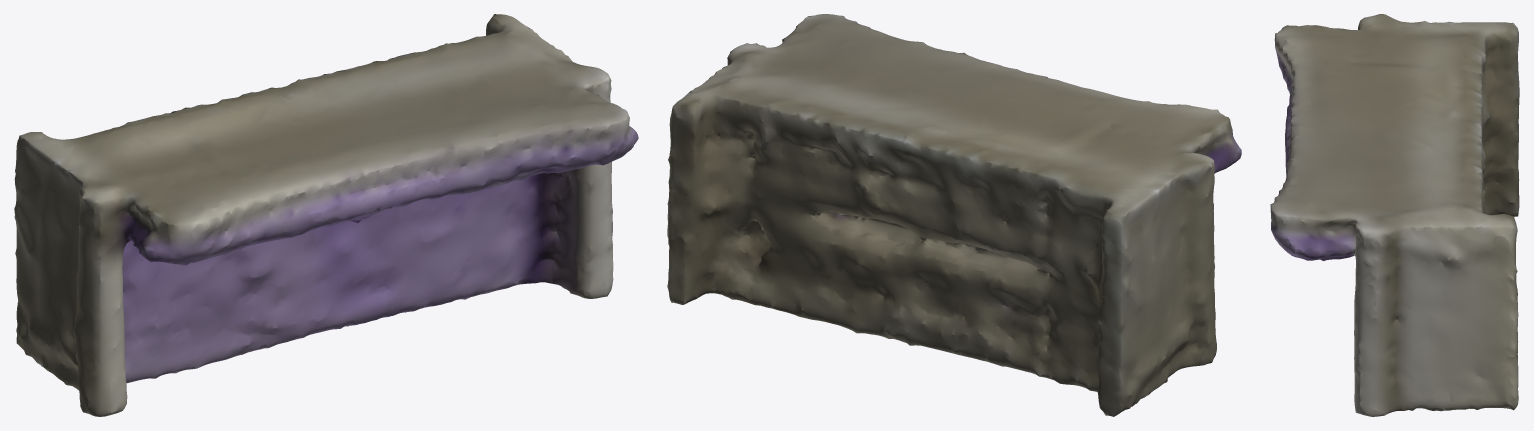
Rendered from sofa.glb.
3 views of the same model, side by side, from view 1: azimuth 30°, elevation 25°; view 2: azimuth 150°, elevation 25°; view 3: azimuth 270°, elevation 25° (orthographic). The views are drawn at different scales.
Bounding box in the file's own units: 0.9938 × 0.422 × 0.4766.
